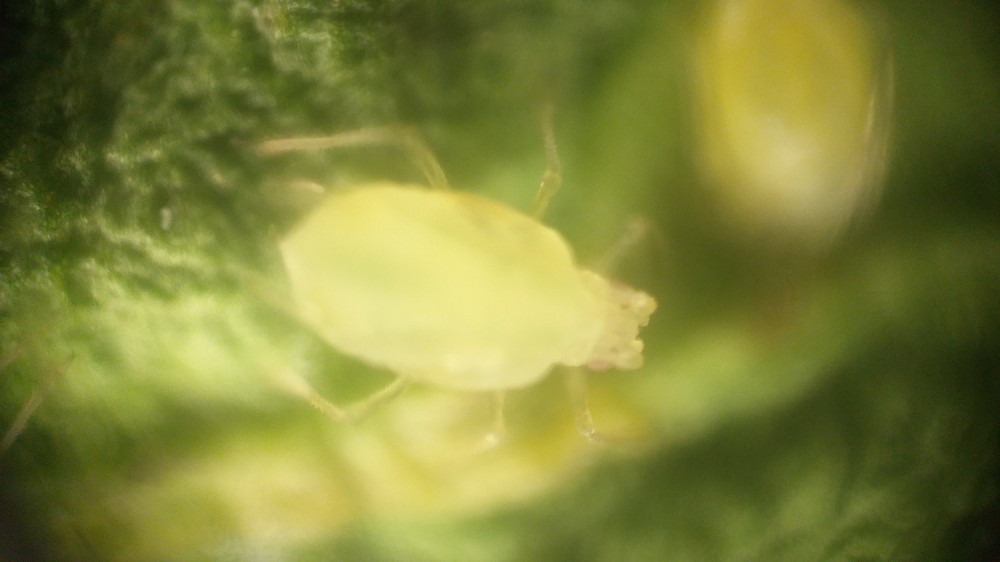Pulgon: (178, 67, 741, 513)
